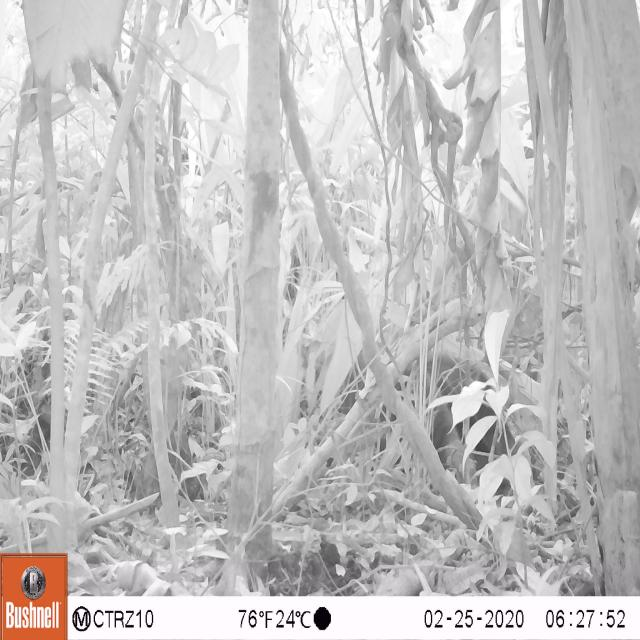Giant Anteater: (302, 264, 582, 490)
